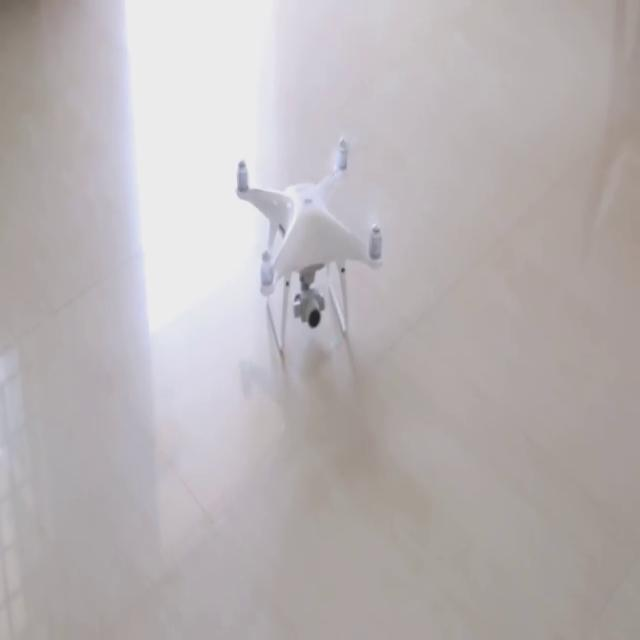drone: (227, 127, 391, 294)
